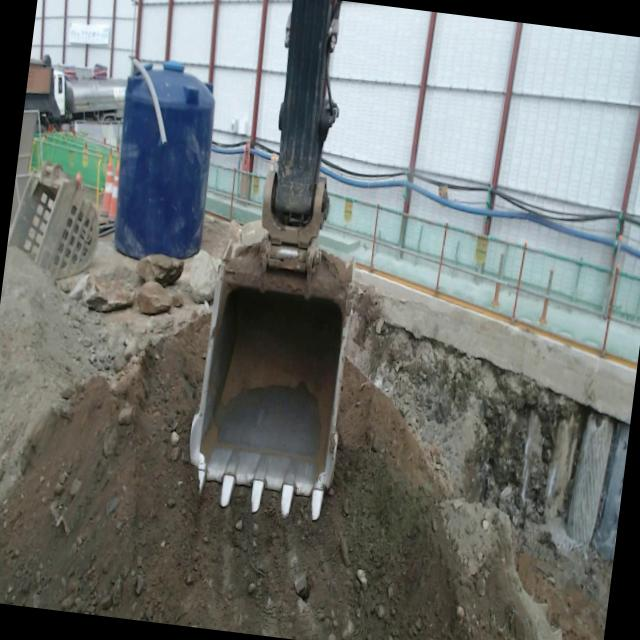cement: (354, 269, 636, 424)
red-sand: (0, 250, 610, 640)
rocks: (62, 299, 188, 374)
stone: (81, 274, 136, 312), (189, 249, 218, 302), (136, 254, 183, 286), (134, 280, 172, 314)
